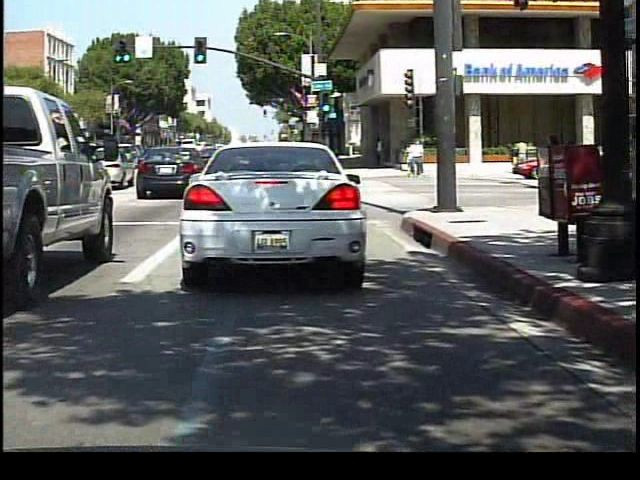person: (510, 136, 532, 177), (407, 136, 427, 179), (439, 136, 458, 174)
